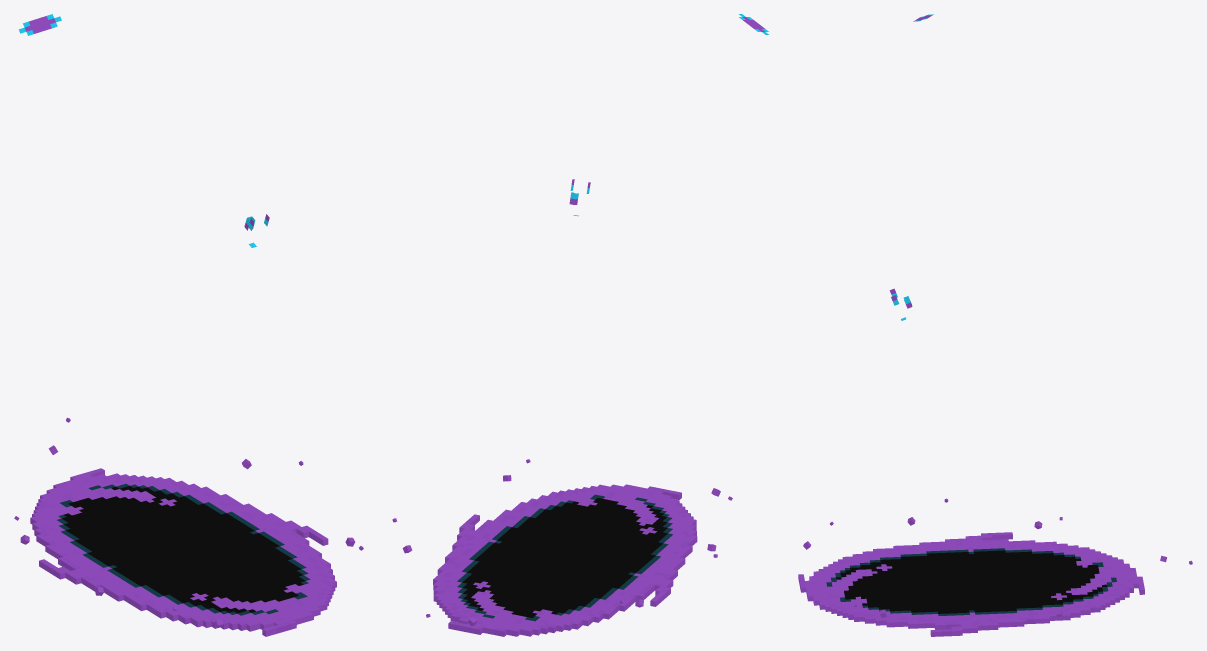
File: min_portal.glb
The picture shows the model from 3 angles, left to right: view 1: azimuth 30°, elevation 25°; view 2: azimuth 150°, elevation 25°; view 3: azimuth 270°, elevation 25°; orthographic projection. The views are drawn at different scales.
Visible parts, largest first — view 1: Object_2; view 2: Object_2; view 3: Object_2.
Boxes of the visible parts, x1=… form: Object_2: x1=14, y1=14, x2=363, y2=636; Object_2: x1=392, y1=14, x2=768, y2=636; Object_2: x1=798, y1=14, x2=1192, y2=636.
Size of the model in its own units: 6.3 by 10.57 by 7.49.
Materials: 1 (1 with a texture image).
